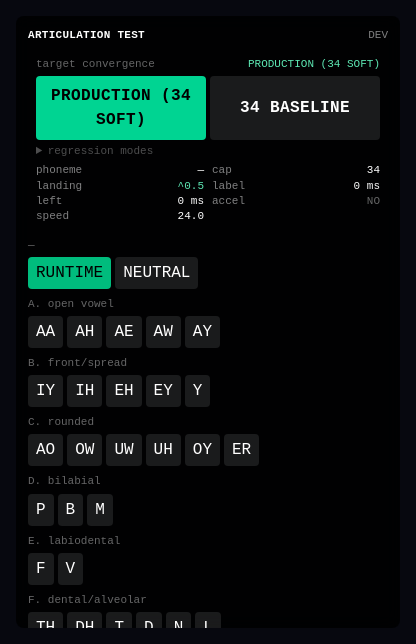
Test: Hyper3DArticulationTestPanel › prints the cap and the landing state
The image size is (416, 644).
Expected: the element with test id "hyper3d-articulation-test-panel" shows "34", [367,164,380,176]
Expected: the element with test id "hyper3d-articulation-test-panel" shows "^0.5", [178,180,204,192]
# 34 BASELINE: the same cap, landing withdrawn.
What coordinates should you click on to do the following:
click the button with test id "hyper3d-deadline-mode-d34"
I would click on:
 (295, 108)
Its box is [210,76,380,140].
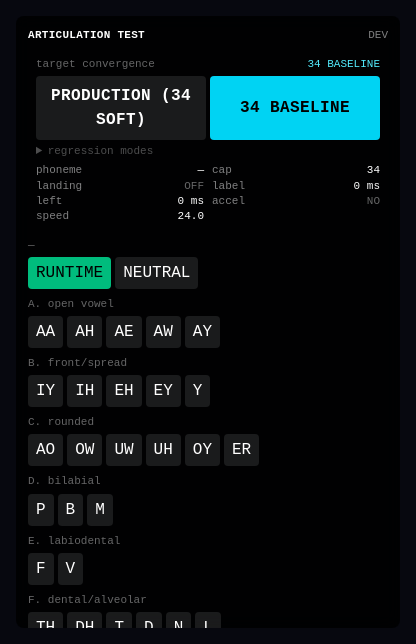
Expected: the element with test id "hyper3d-articulation-test-panel" shows "OFF", [184,180,204,192]
